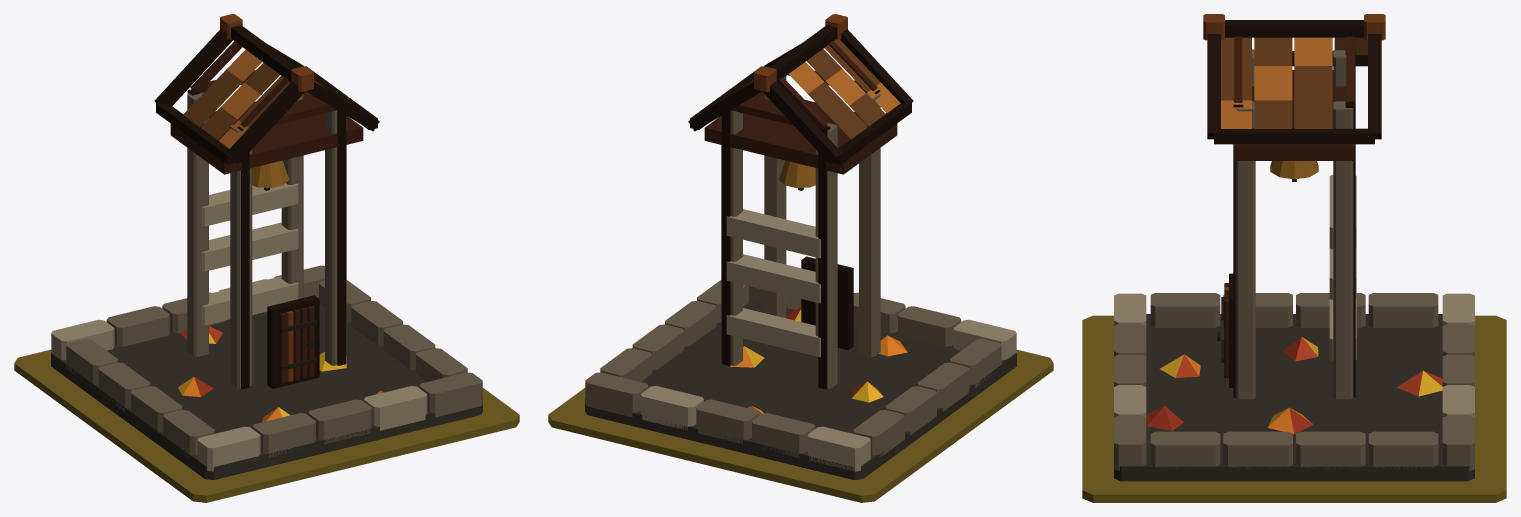
File: bell-tower_t2.glb
3 views of the same model, side by side, from view 1: azimuth 30°, elevation 25°; view 2: azimuth 150°, elevation 25°; view 3: azimuth 270°, elevation 25° (orthographic). The views are drawn at different scales.
Parts seen in each view (by area): view 1: MMR | bell-tower | T02 Architecture.001, MMR | bell-tower | Tier 02 Ground.001, MMR | bell-tower | T02 Autumn Dressing.001, MMR | bell-tower | T02 Bell.001; view 2: MMR | bell-tower | T02 Architecture.001, MMR | bell-tower | Tier 02 Ground.001, MMR | bell-tower | T02 Autumn Dressing.001, MMR | bell-tower | T02 Bell.001; view 3: MMR | bell-tower | T02 Architecture.001, MMR | bell-tower | Tier 02 Ground.001, MMR | bell-tower | T02 Autumn Dressing.001, MMR | bell-tower | T02 Bell.001.
Part boxes in pixels (box(x1,y1,x2,y2)): MMR | bell-tower | T02 Architecture.001: box(51, 14, 482, 479); MMR | bell-tower | Tier 02 Ground.001: box(14, 349, 519, 502); MMR | bell-tower | T02 Autumn Dressing.001: box(178, 326, 384, 421); MMR | bell-tower | T02 Bell.001: box(252, 160, 289, 187); MMR | bell-tower | T02 Architecture.001: box(585, 14, 1016, 479); MMR | bell-tower | Tier 02 Ground.001: box(548, 349, 1053, 502); MMR | bell-tower | T02 Autumn Dressing.001: box(729, 307, 907, 414); MMR | bell-tower | T02 Bell.001: box(778, 160, 815, 187); MMR | bell-tower | T02 Architecture.001: box(1114, 14, 1474, 481); MMR | bell-tower | Tier 02 Ground.001: box(1082, 315, 1506, 502); MMR | bell-tower | T02 Autumn Dressing.001: box(1146, 337, 1442, 434); MMR | bell-tower | T02 Bell.001: box(1270, 161, 1318, 179).
Size of the model in its own units: 2.35 by 2.42 by 2.35.
Materials: 1 (1 with a texture image).
